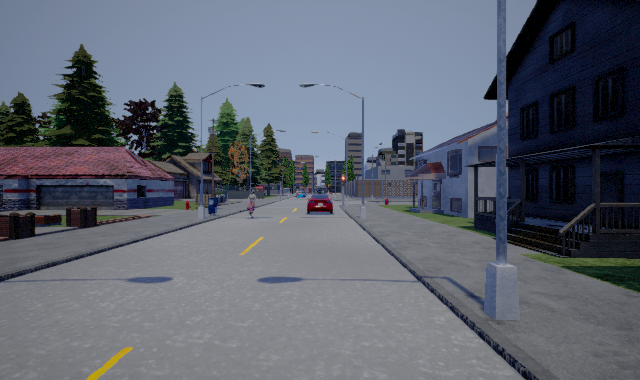bike: (243, 190, 261, 221)
traffic_light: (342, 176, 345, 186)
vehicle: (306, 190, 334, 214)
